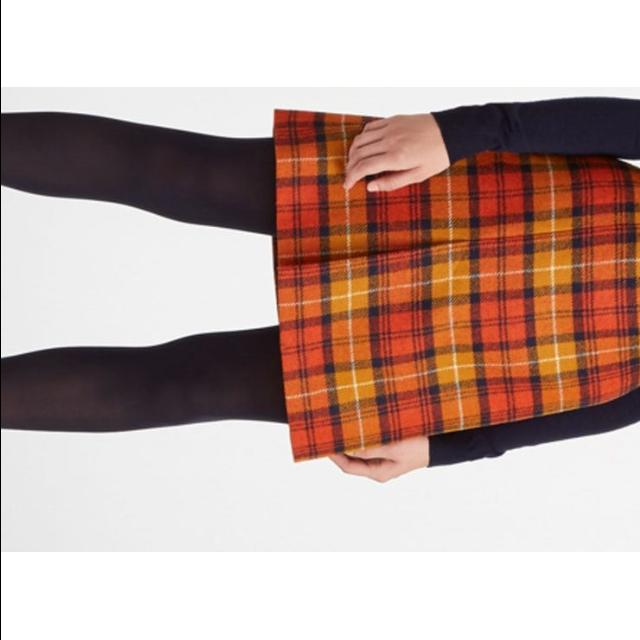wool: (266, 88, 640, 516)
